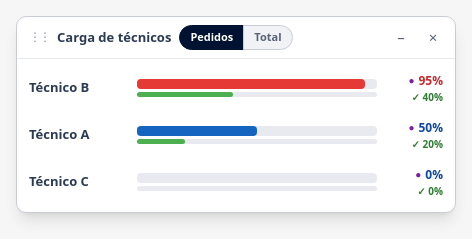
Test: PanelCarga: actualización › si se minimiza con el ratón encima, la pastilla no se queda congelada
Click the button named "Minimizar el panel de carga" at (401,37), box [389, 25, 413, 49]
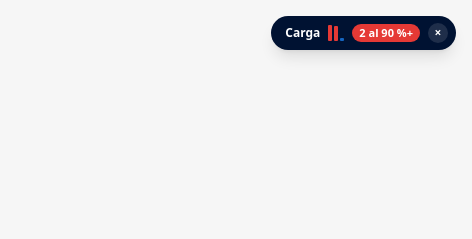
Result: the text "2 al 90 %+" is shown at [352, 24, 420, 42]
